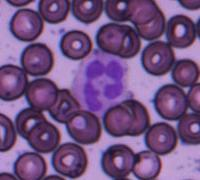N: (70, 50, 130, 114)
